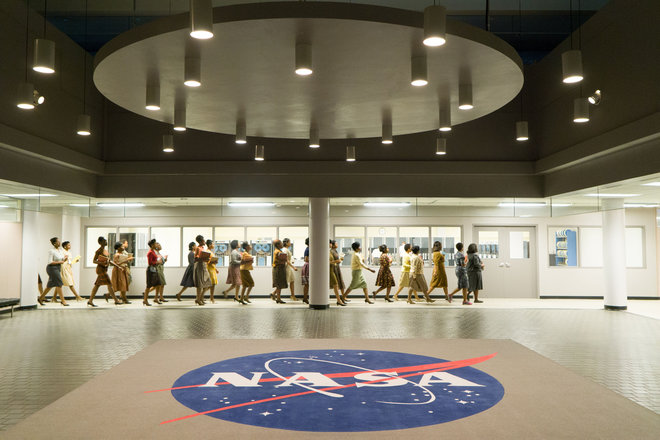NASA: (144, 340, 512, 433)
